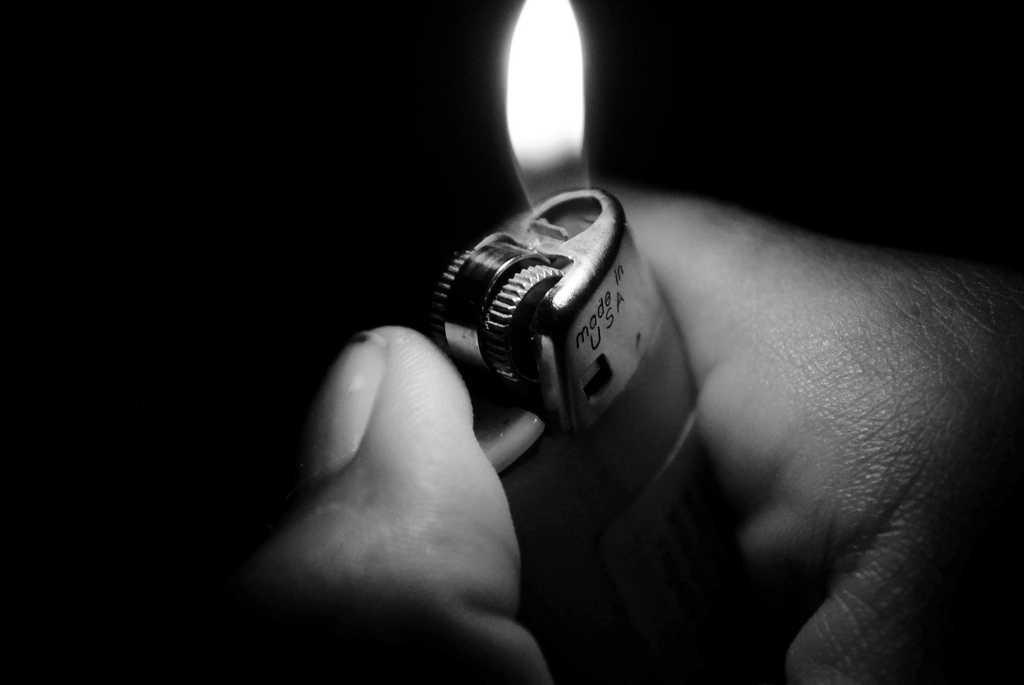fire: (480, 0, 633, 223)
